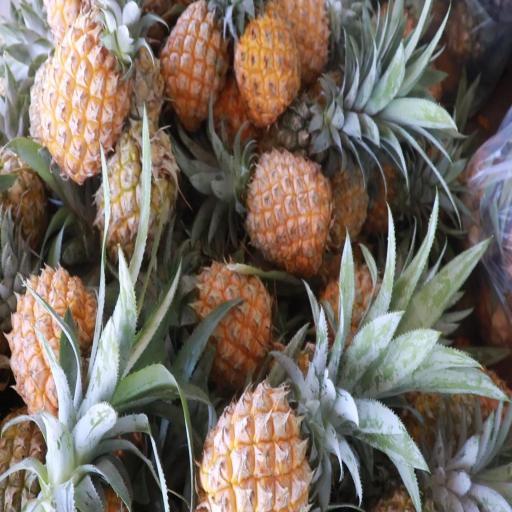------------------------------: (97, 125, 174, 254)
Pineapple - v8 v1: (201, 382, 312, 512), (12, 266, 96, 420), (45, 26, 126, 172), (248, 155, 333, 270), (190, 266, 272, 376), (160, 0, 232, 119), (234, 14, 301, 124)
